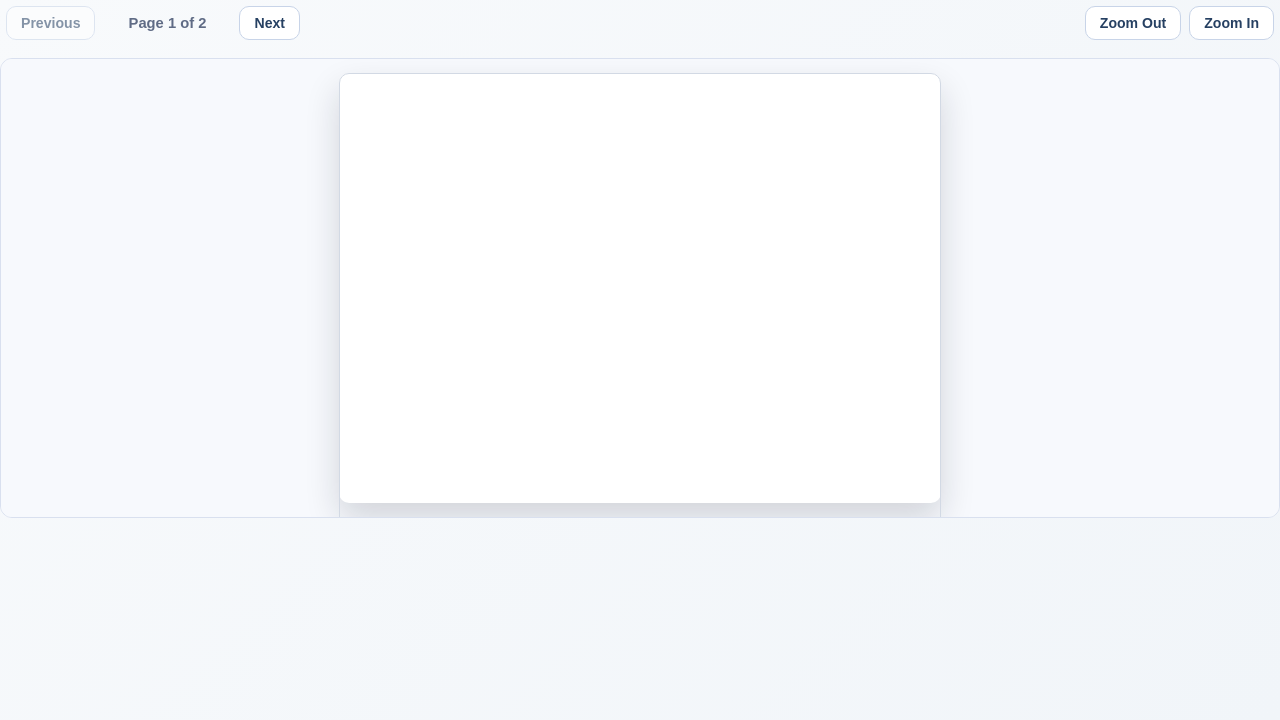
Test: PdfViewer › navigates between pages with next and previous controls
expect the text "Page 1 of 2" is shown: met, box [129,15,206,31]
Click the button "Next": (270, 23) [240,6,300,40]
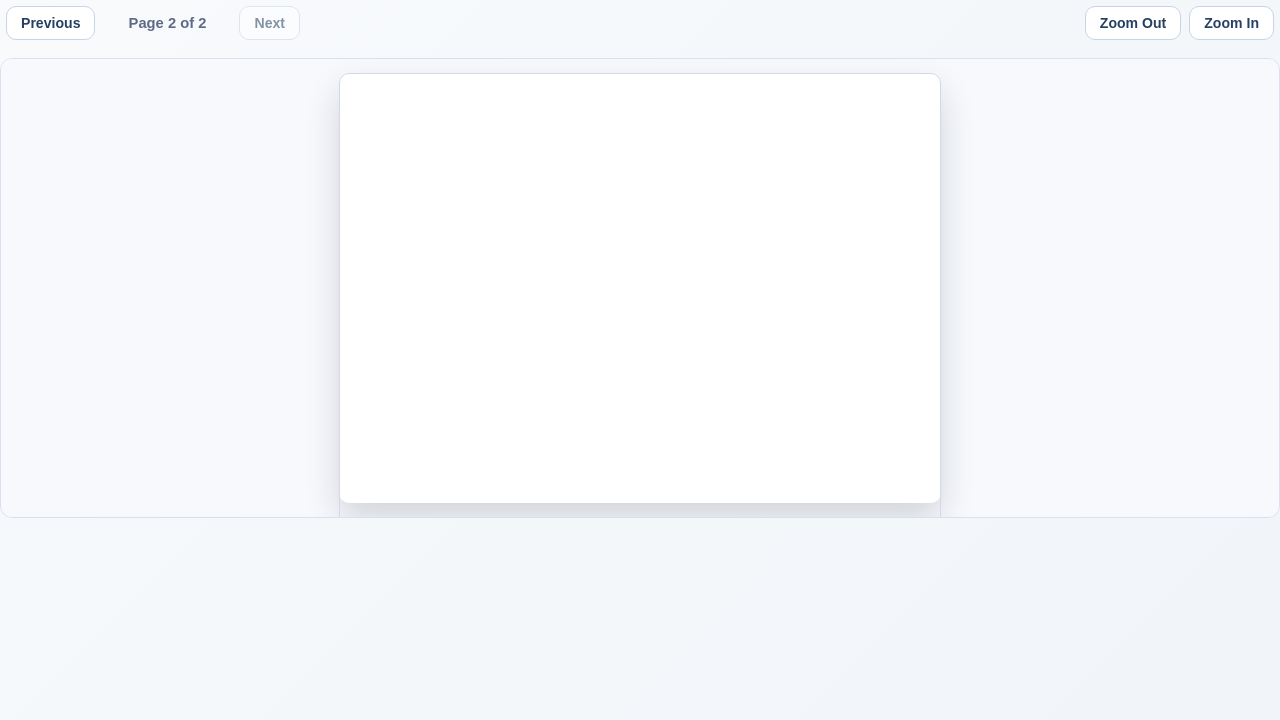
expect the text "Page 2 of 2" is shown: met, box [129,15,206,31]
Click the button "Previous": (51, 23) [6,6,96,40]
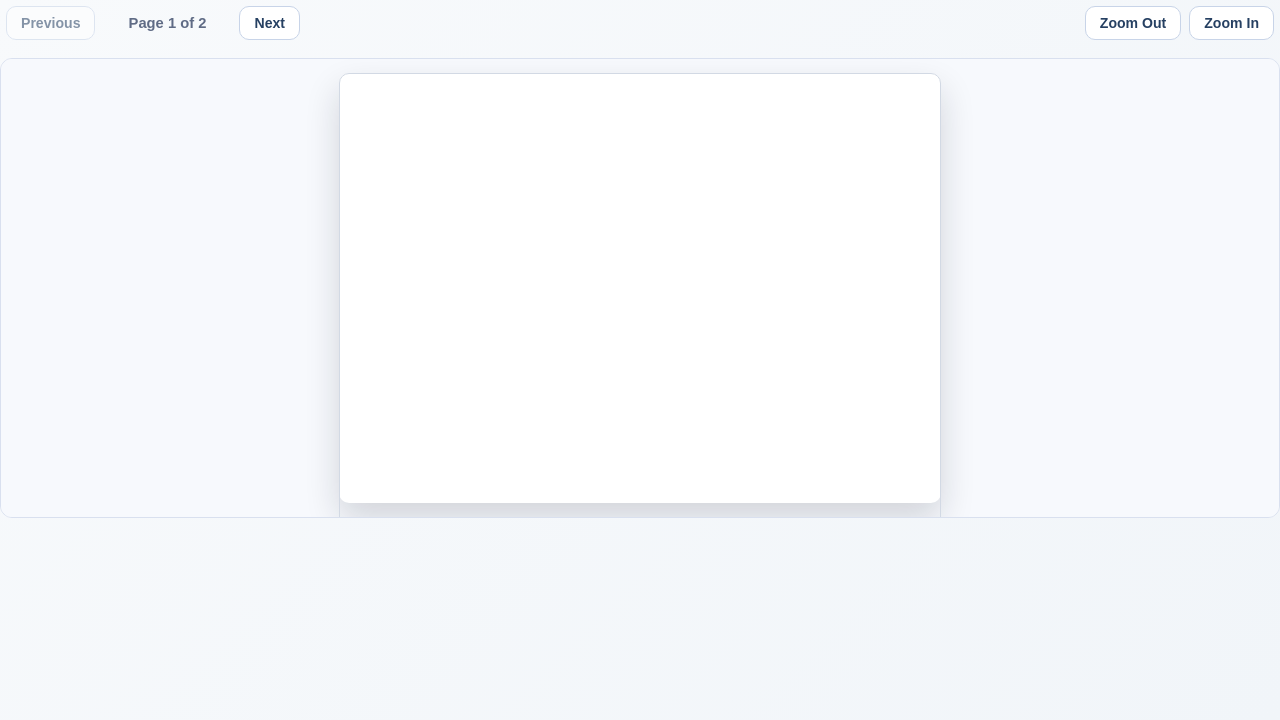
expect the text "Page 1 of 2" is shown: met, box [129,15,206,31]
